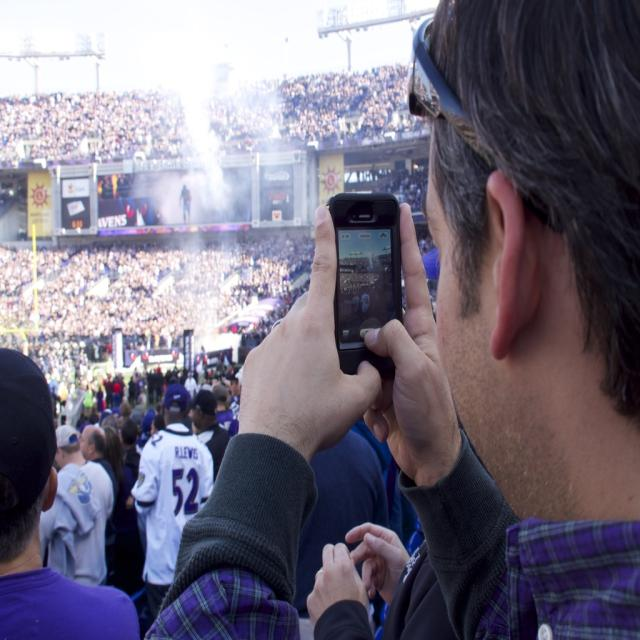Mobile-phone: (325, 186, 418, 373)
